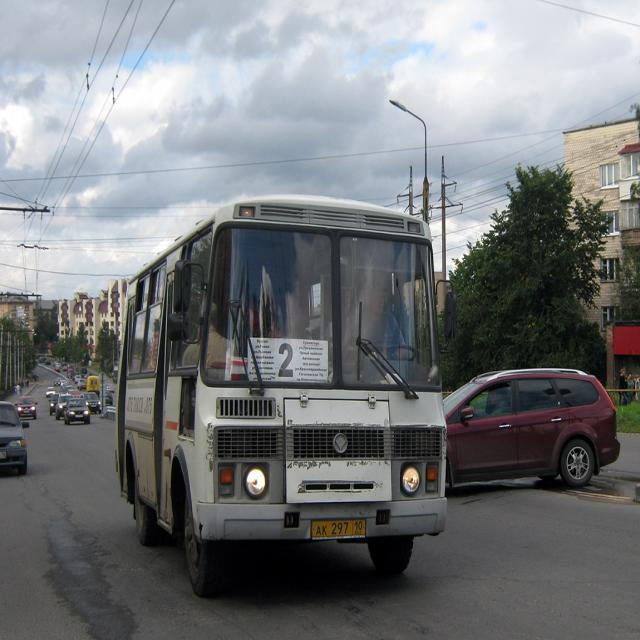number-of-bus: (278, 343, 296, 378)
